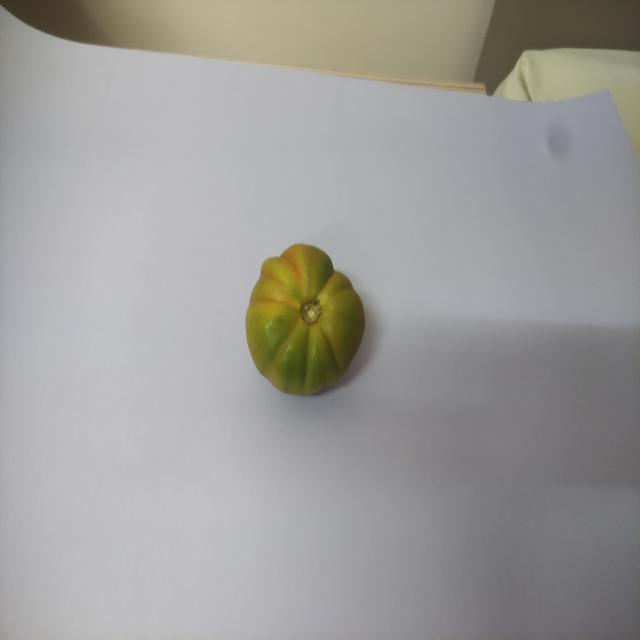unripe tomato: (241, 249, 369, 404)
